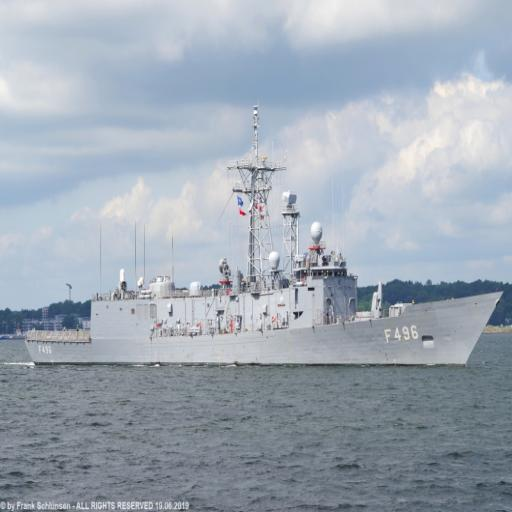Fragata: (22, 95, 507, 370)
